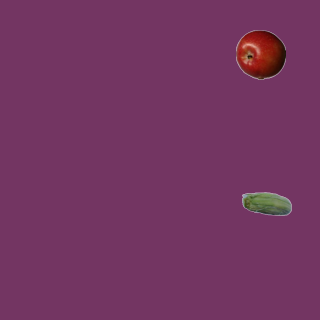Apple Braeburn: (235, 29, 285, 79)
Corn Husk: (241, 180, 291, 230)
